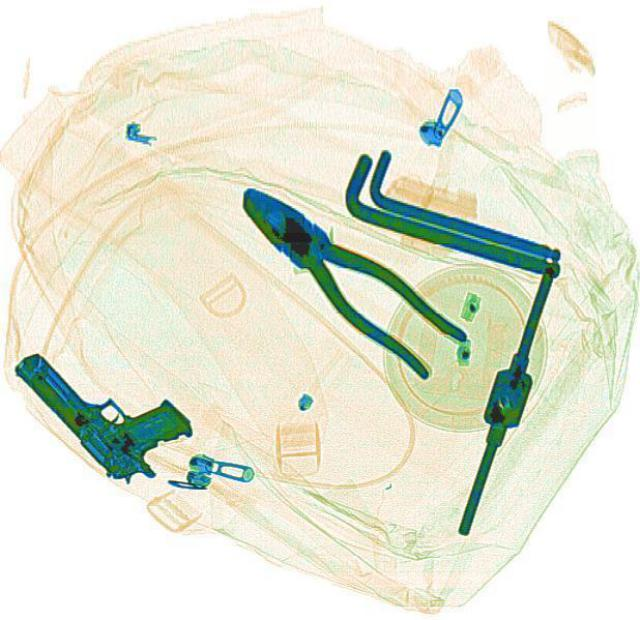Gun: (5, 309, 205, 495)
Pliers: (218, 162, 470, 380)
